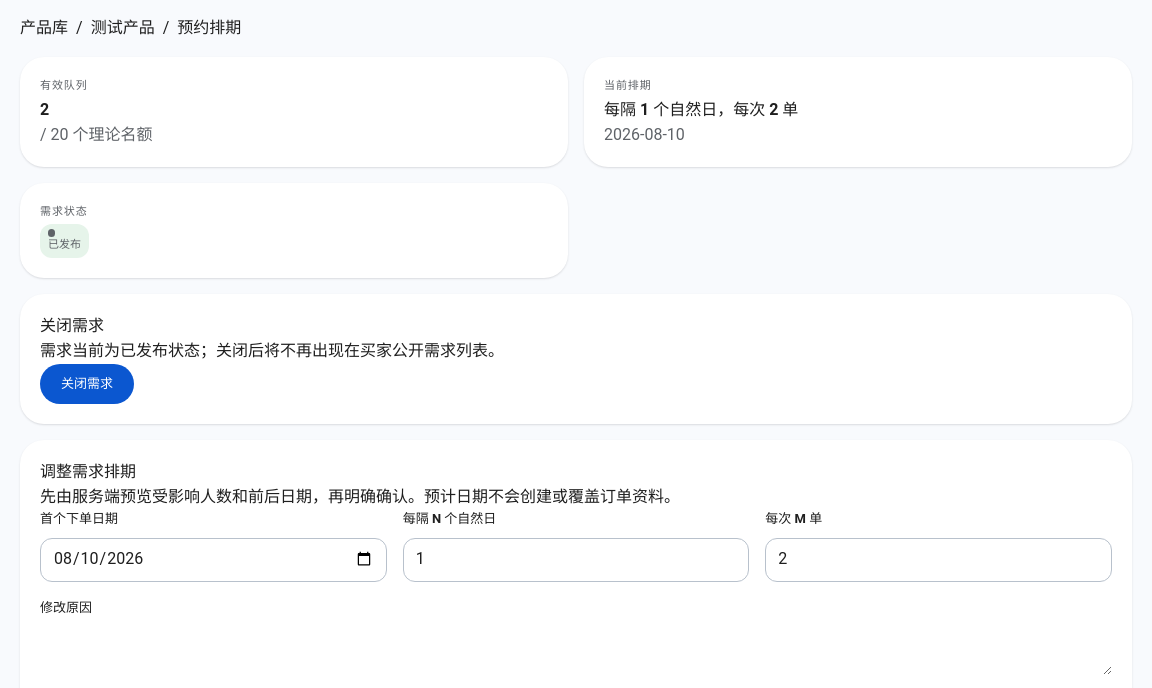
Scenario: 产品预约排期工作区 › submits close with exact ambiguous retry and refreshes the closed status
This screenshot has width=1152, height=688.
Click the button "关闭需求" at point(87, 384), box [40,364,134,404]
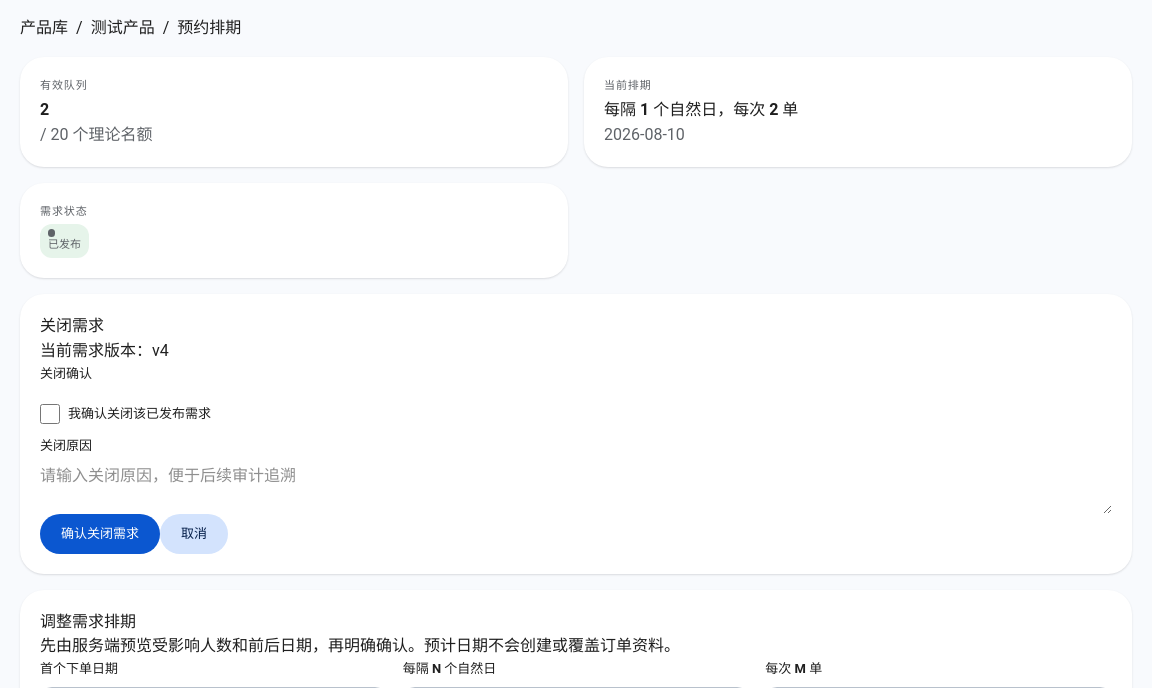
Click the checkbox named "我确认关闭该已发布需求" at point(50, 414), box [40,404,60,424]
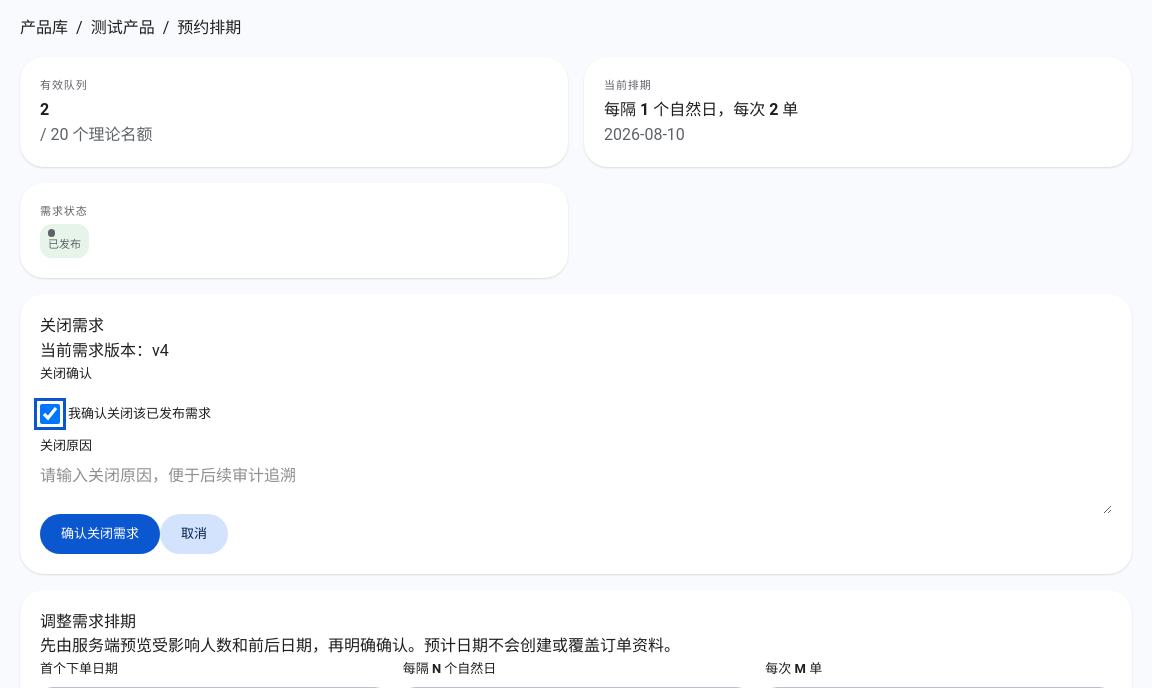
Type "提前结束活动" into the text box labelled "关闭原因" at point(576, 489), box [40,464,1112,514]
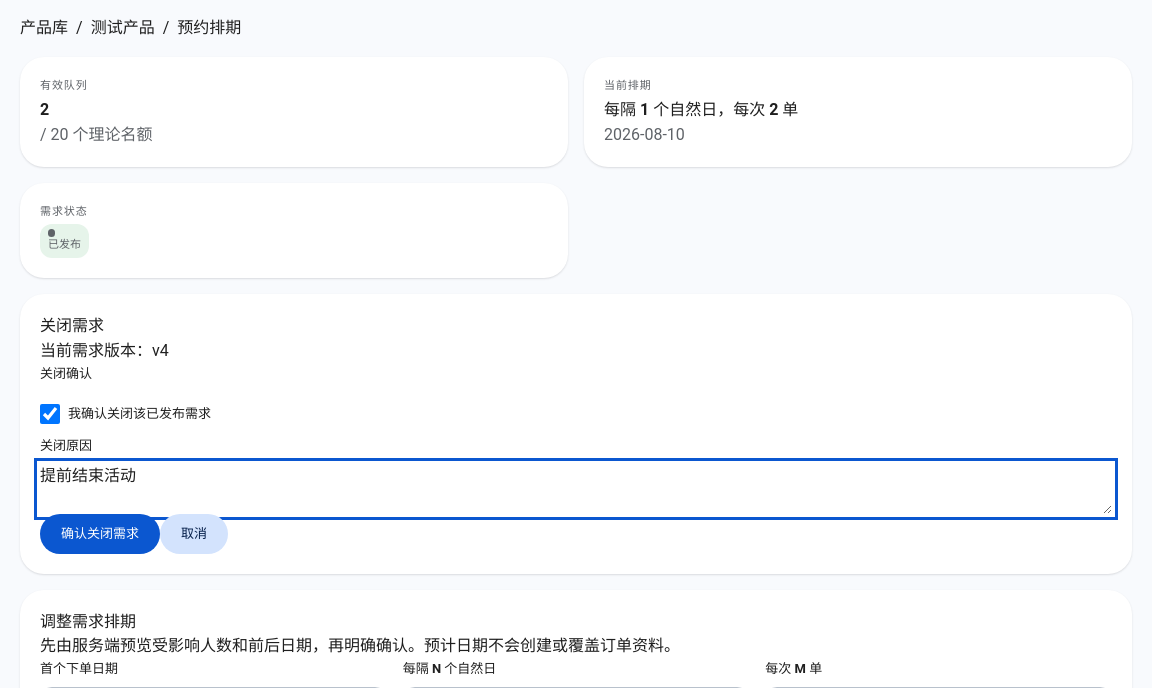
Click the button "确认关闭需求" at point(100, 534), box [40,514,160,554]
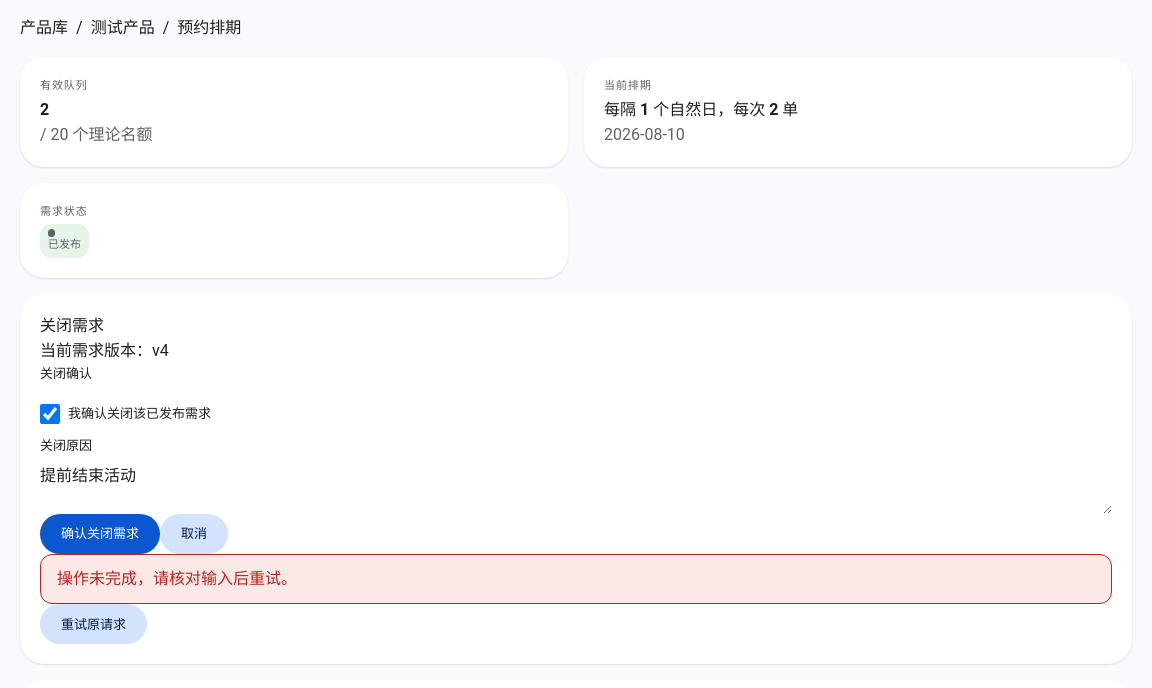
Expected: the button "重试原请求" is shown
Click the button "重试原请求" at point(94, 624), box [40,604,147,644]
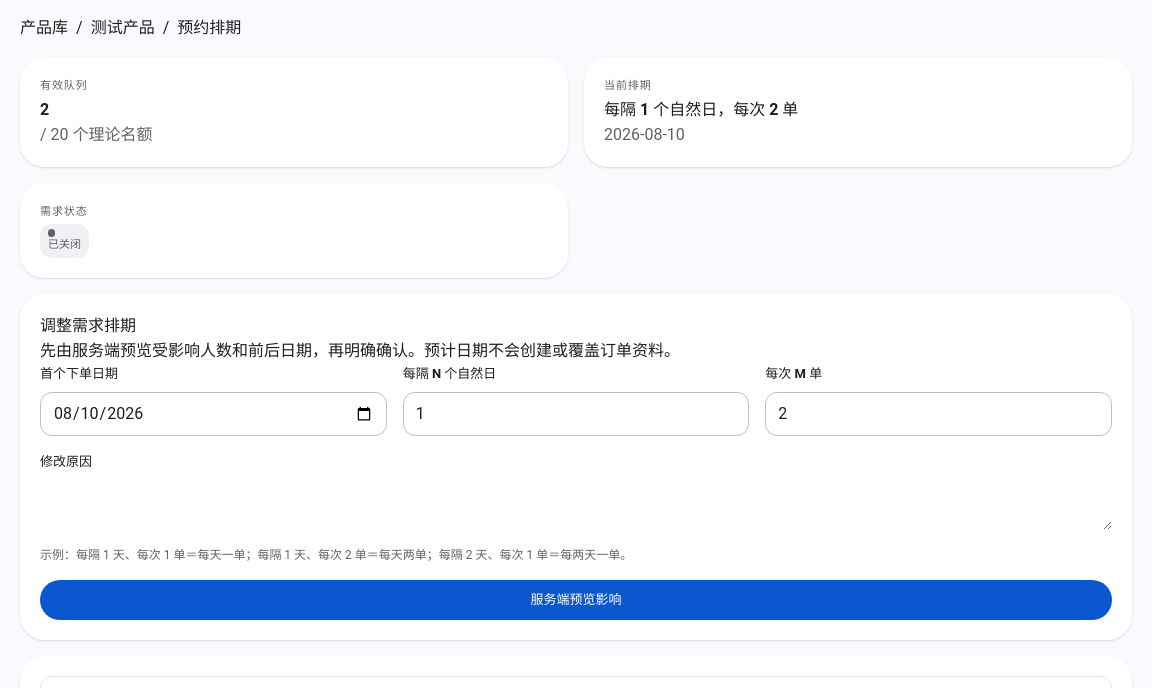
Expected: the text "已关闭" is shown, [40,224,89,258]
Expected: the heading "关闭需求" is gone
